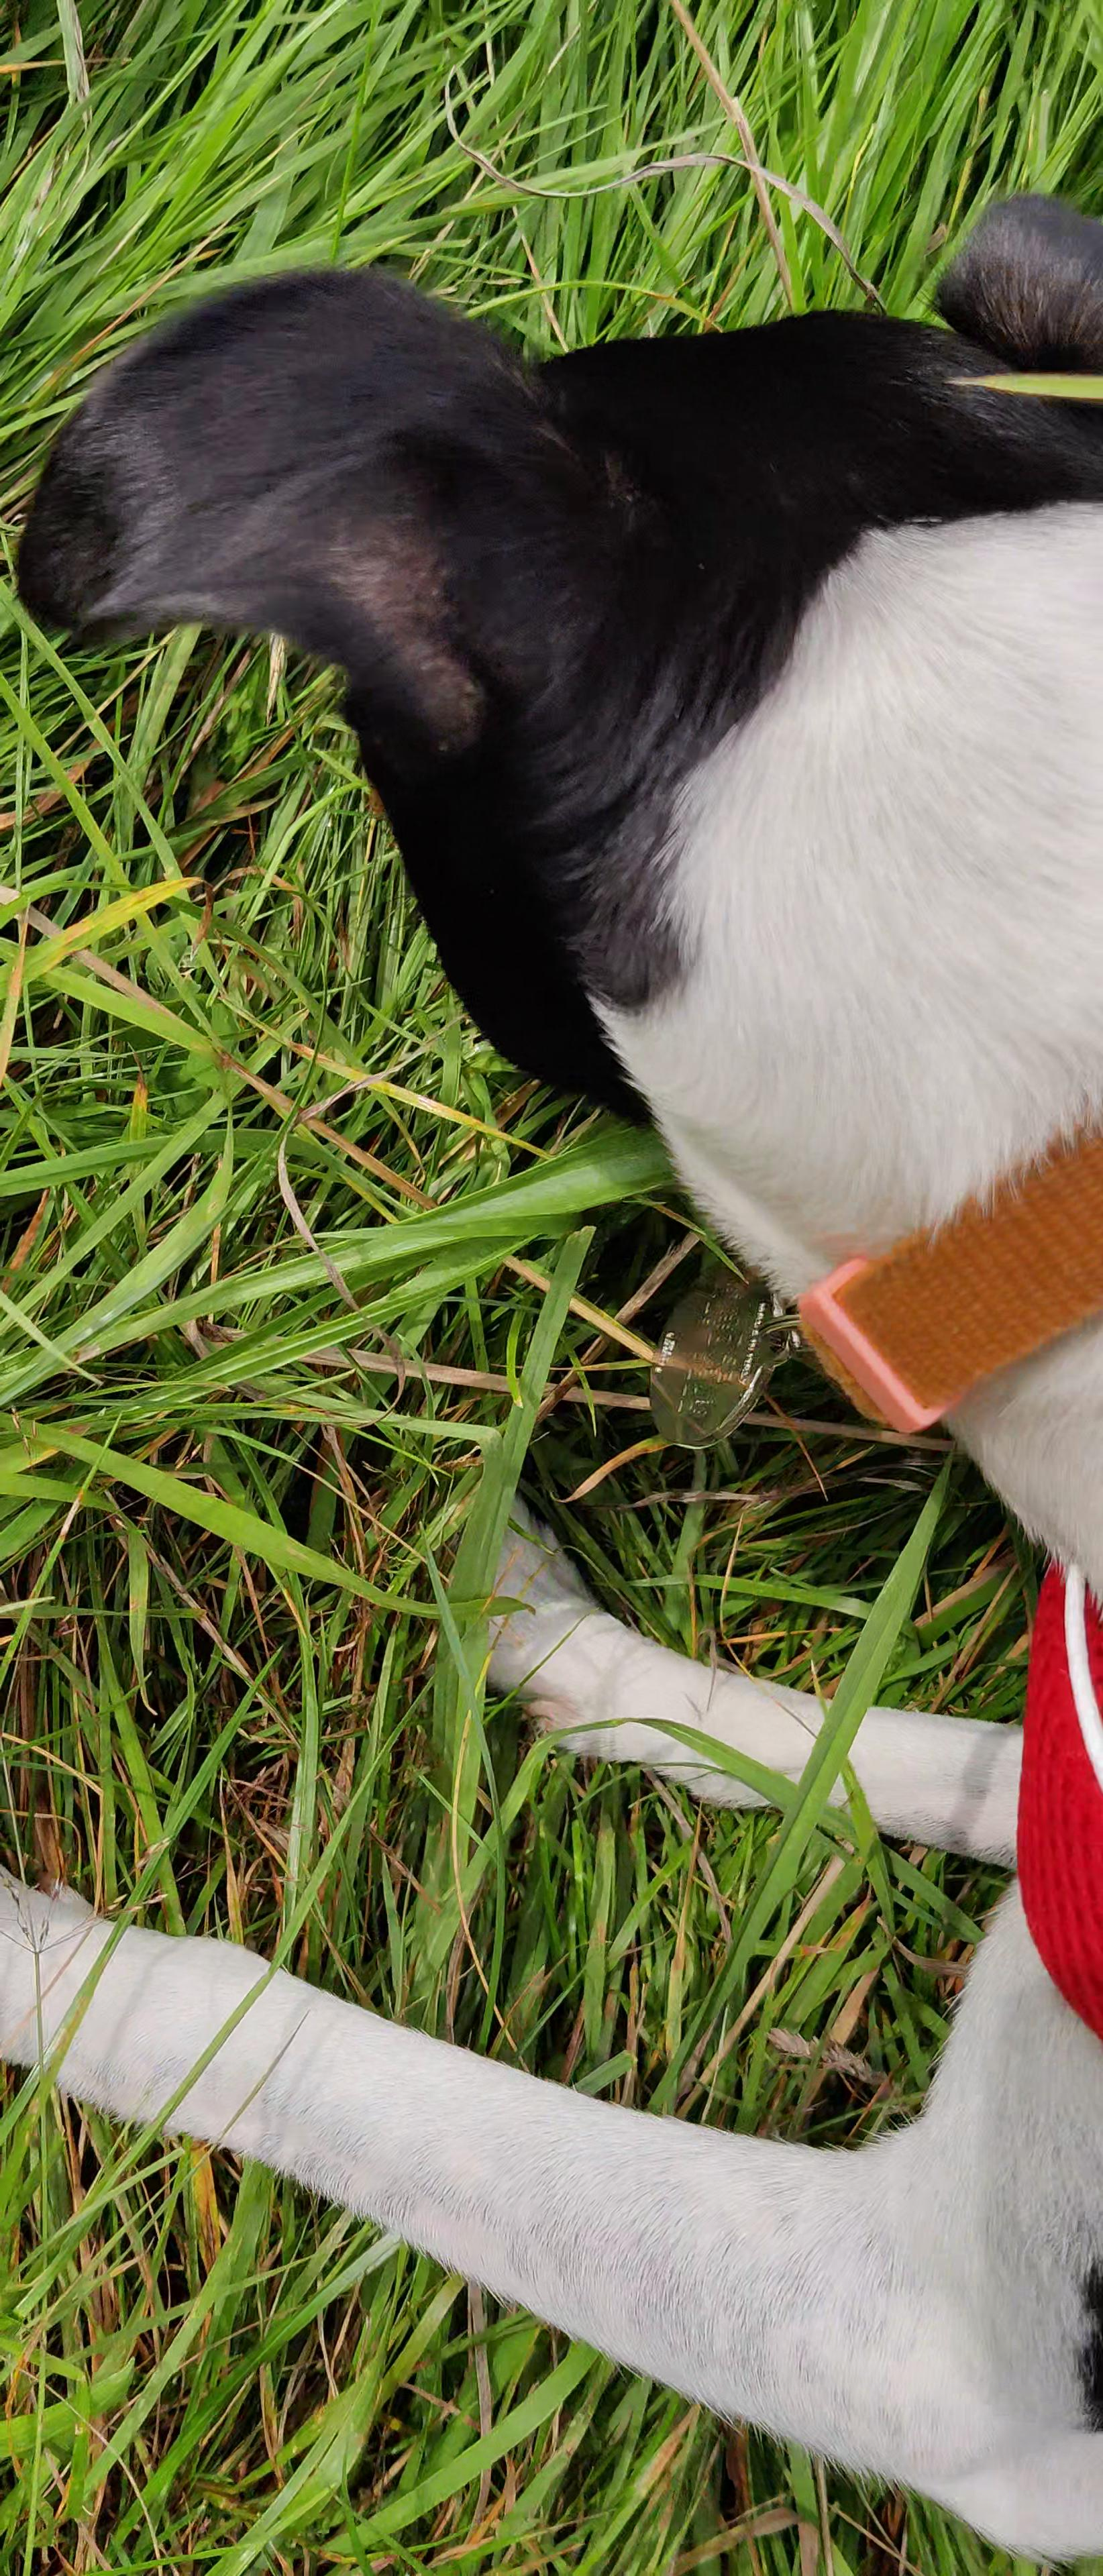Dog: (0, 149, 1103, 2560)
